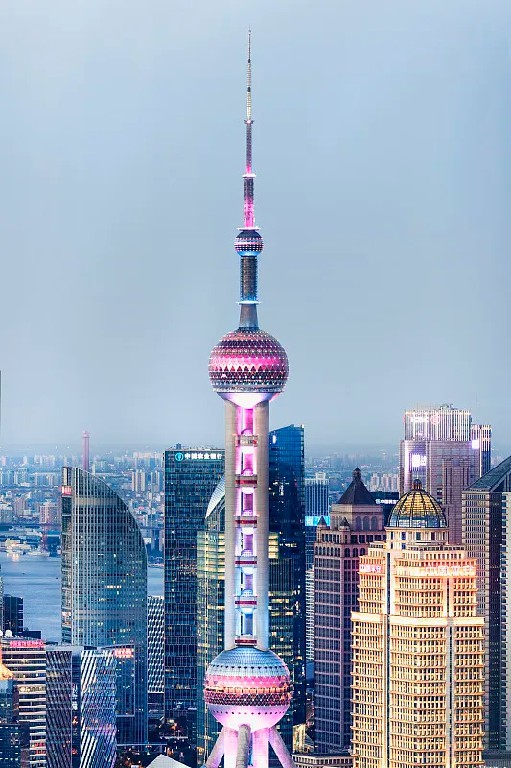Oriental: (203, 27, 294, 768)
